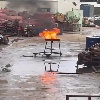fire: (38, 27, 60, 39)
